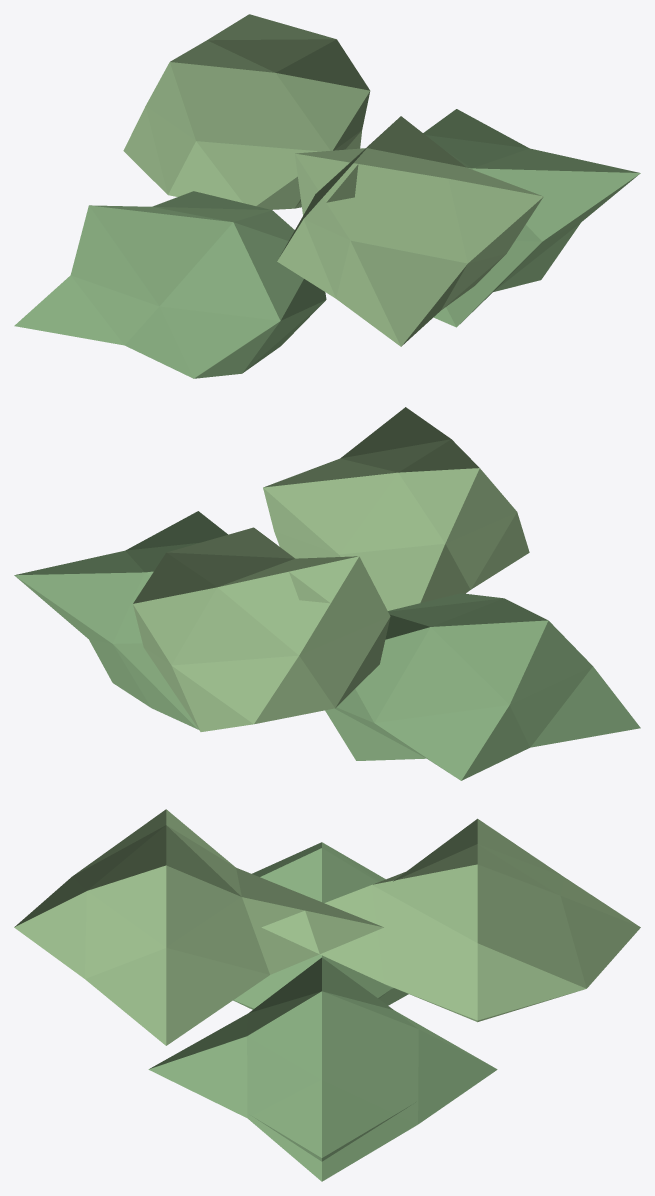
File: shrub_v23.glb
3 views of the same model, one above another, from view 1: azimuth 30°, elevation 25°; view 2: azimuth 150°, elevation 25°; view 3: azimuth 270°, elevation 25° (orthographic). The views are drawn at different scales.
Visible parts, largest first — view 1: lod0; view 2: lod0; view 3: lod0.
Boxes of the visible parts, left/top/right/bottom form: lod0: left=14, top=14, right=640, bottom=378; lod0: left=14, top=407, right=640, bottom=780; lod0: left=14, top=809, right=640, bottom=1181.
Size of what is drawn, in the model's own units: 1.77 by 0.805 by 1.49.
